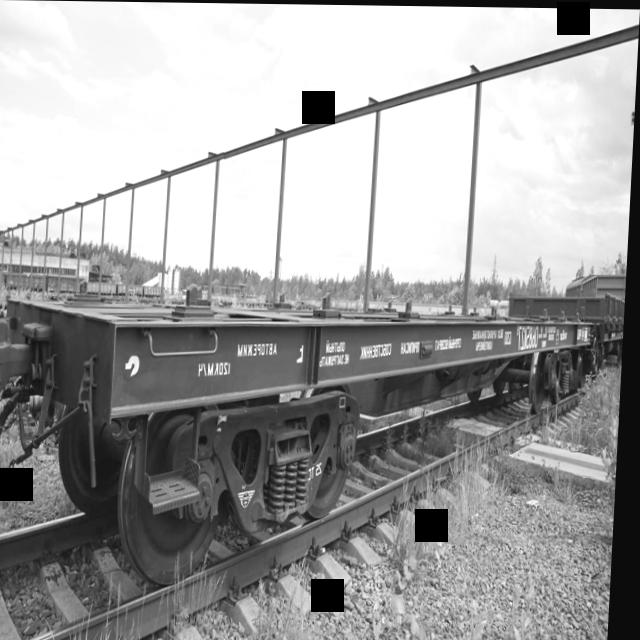flatcar: (0, 279, 602, 596)
